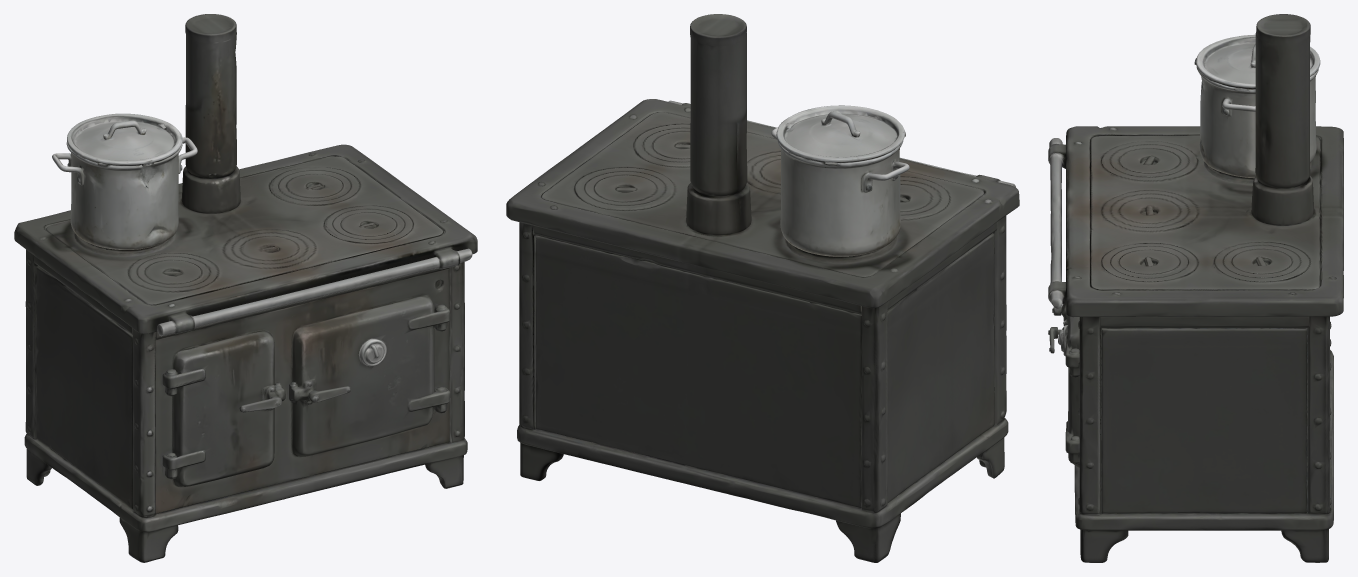
Rendered from silo81_stove.glb.
The picture shows the model from 3 angles, left to right: view 1: azimuth 30°, elevation 25°; view 2: azimuth 150°, elevation 25°; view 3: azimuth 270°, elevation 25°; orthographic projection. The views are drawn at different scales.
Visible parts, largest first — view 1: tripo_node_a2781ca1-87cd-4217-82c5-a59a4f9cf392; view 2: tripo_node_a2781ca1-87cd-4217-82c5-a59a4f9cf392; view 3: tripo_node_a2781ca1-87cd-4217-82c5-a59a4f9cf392.
Boxes of the visible parts, x1,y1,x2,y2 form: tripo_node_a2781ca1-87cd-4217-82c5-a59a4f9cf392: [14, 14, 477, 562]; tripo_node_a2781ca1-87cd-4217-82c5-a59a4f9cf392: [506, 14, 1019, 562]; tripo_node_a2781ca1-87cd-4217-82c5-a59a4f9cf392: [1048, 14, 1343, 562].
Size of the model in its own units: 0.8089 by 0.9802 by 0.5759.
Materials: 1 (1 with a texture image).
